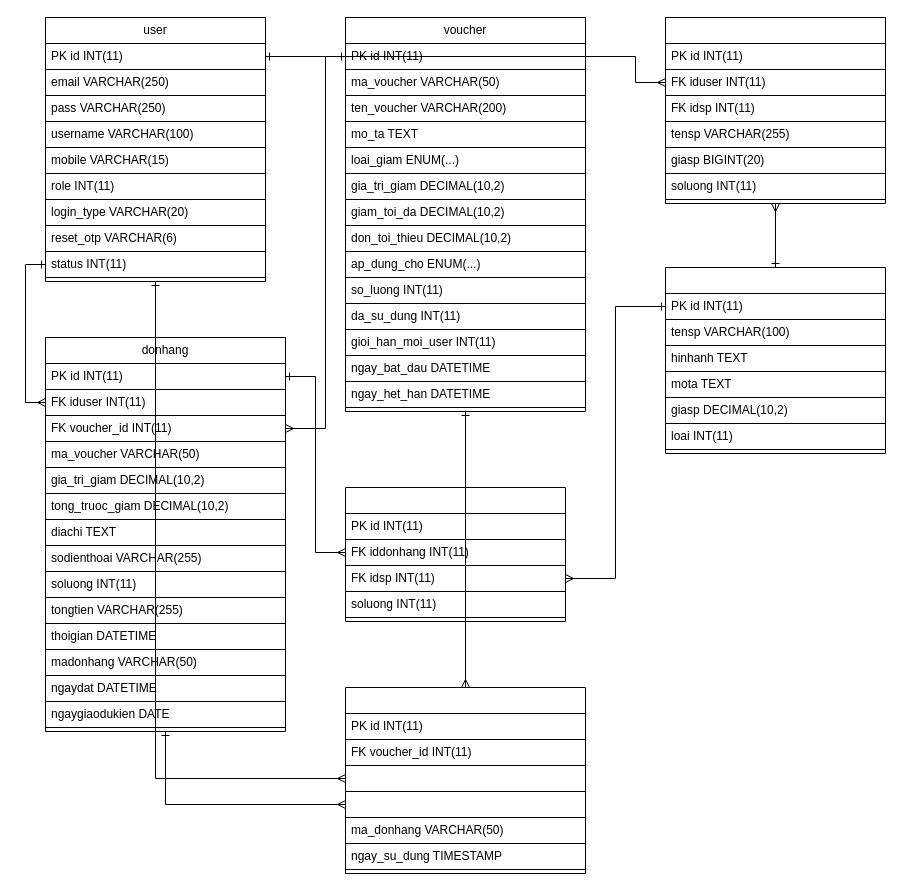
This 903x891 diagram has some shape labels left out. Here are the shapes that lost their labels. From the top down, the box of each, then its label:
(664, 16, 886, 204): giohang
(664, 266, 886, 454): sanphammoive
(344, 486, 566, 622): chitietdonhang
(344, 764, 586, 792): FK user_id INT(11)
(344, 686, 586, 874): voucher_usage
(344, 790, 586, 818): FK donhang_id INT(11)
